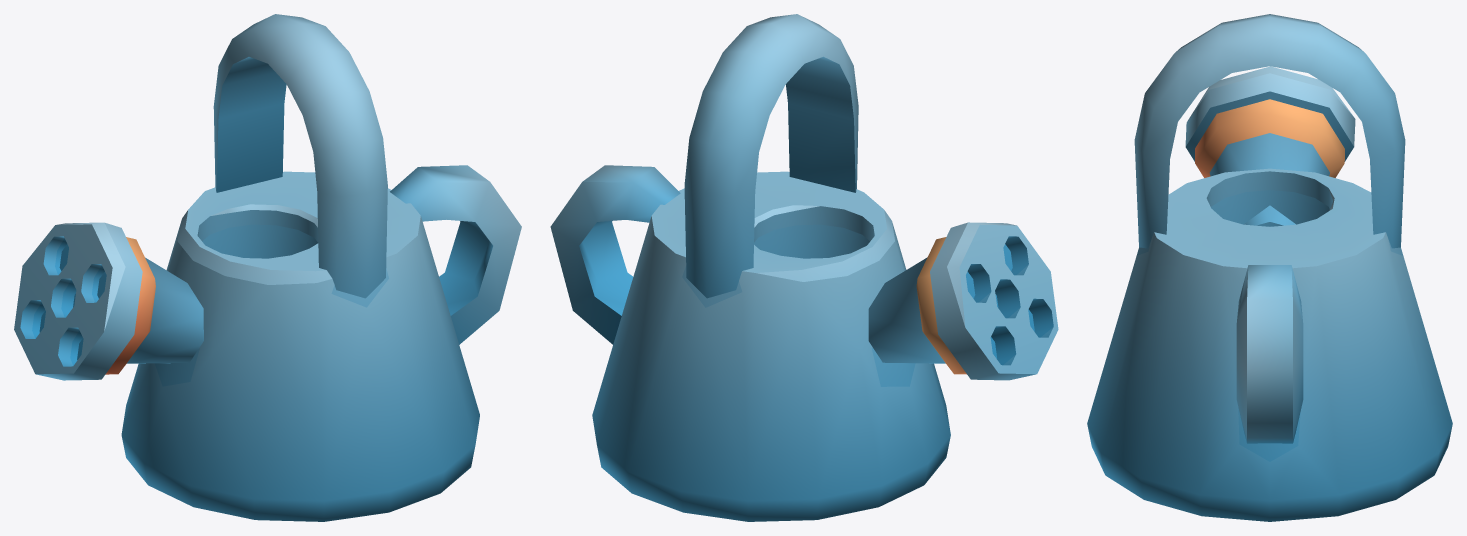
Rendered from wateringcan_001.glb.
The picture shows the model from 3 angles, left to right: view 1: azimuth 30°, elevation 25°; view 2: azimuth 150°, elevation 25°; view 3: azimuth 270°, elevation 25°; orthographic projection.
Visible parts, largest first — view 1: wateringcan.001; view 2: wateringcan.001; view 3: wateringcan.001.
Part boxes in pixels (box(x1,y1,x2,y2)): wateringcan.001: box(14, 14, 521, 521); wateringcan.001: box(550, 14, 1058, 521); wateringcan.001: box(1087, 14, 1452, 521).
Size of the model in its own units: 1.03 by 0.9026 by 0.6817.
Materials: 1 (1 with a texture image).
